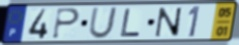1: (186, 5, 201, 39)
4: (26, 7, 50, 40)
L: (119, 8, 143, 38)
N: (154, 6, 183, 38)
P: (50, 7, 81, 40)
U: (87, 6, 119, 40)
